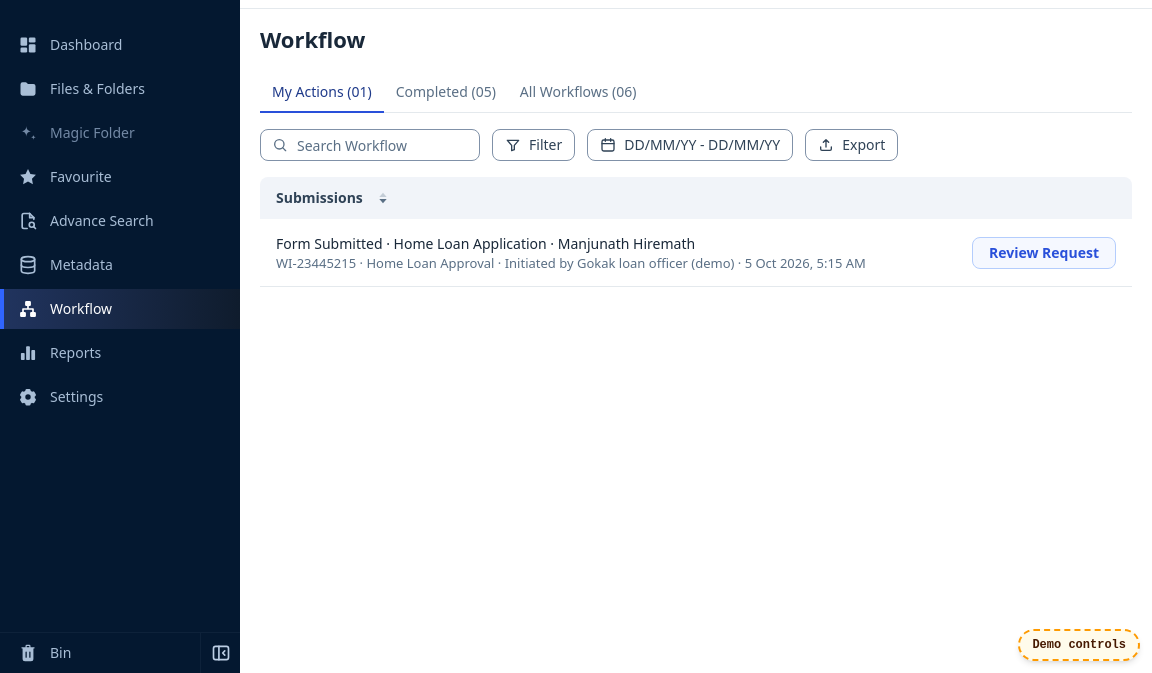
Test: the page › keeps the tab in the address, and leaves it off for My Actions
Click the tab "All Workflows (06)": (578, 93) [508,73,649,113]
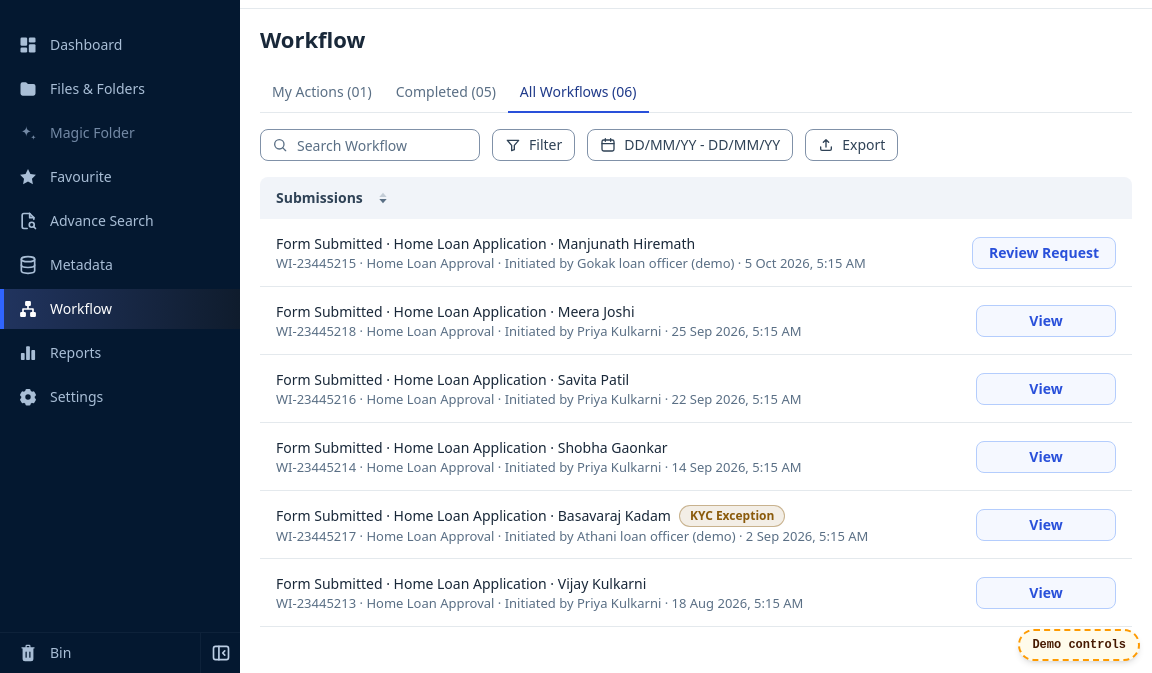
Click the tab "My Actions (01)": (322, 93) [260,73,384,113]
(page scrolled)
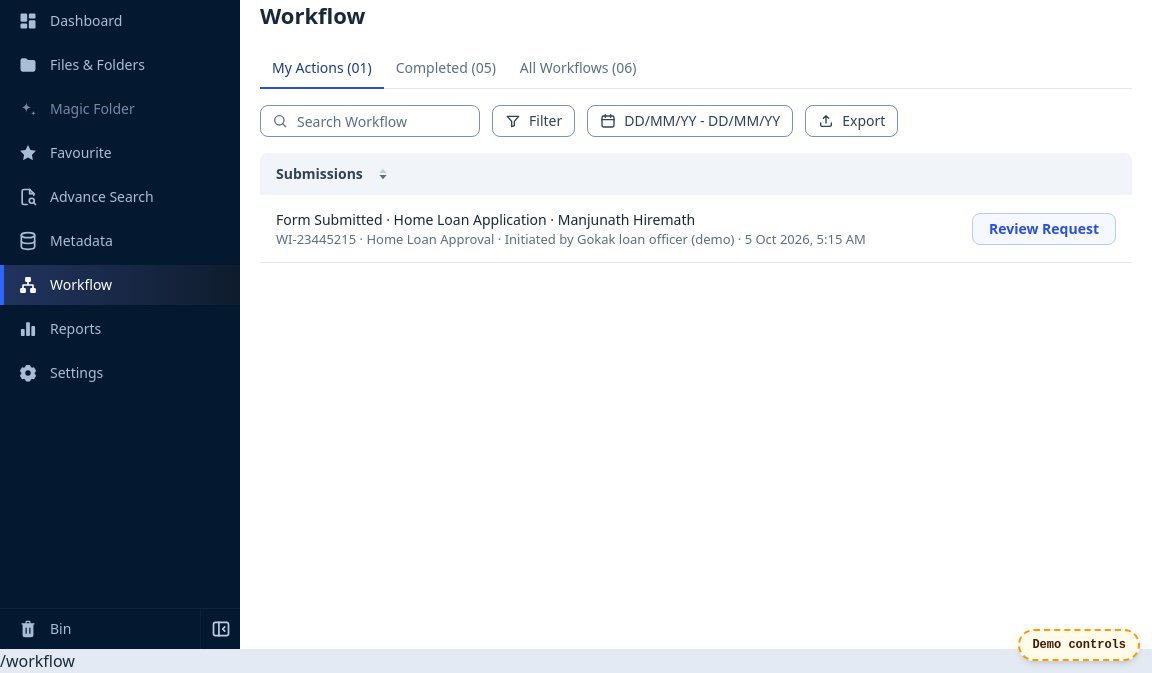
Expected: the text with test id "location" reads "/workflow", [0,650,75,672]
